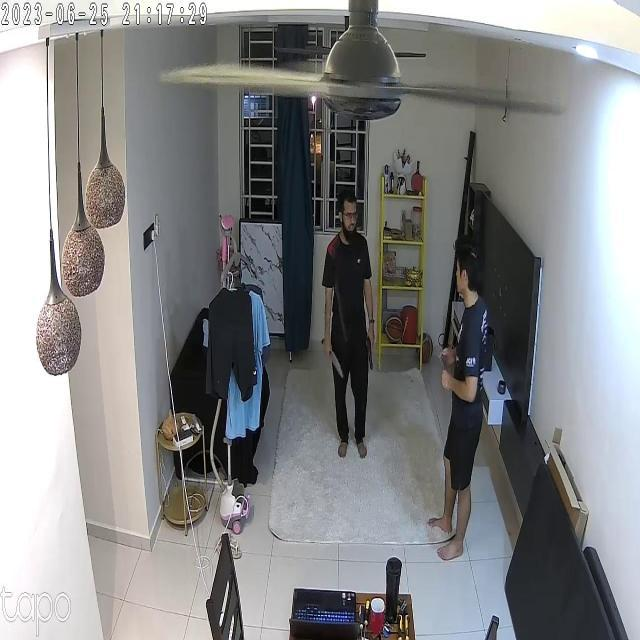Knife: (317, 339, 351, 381)
